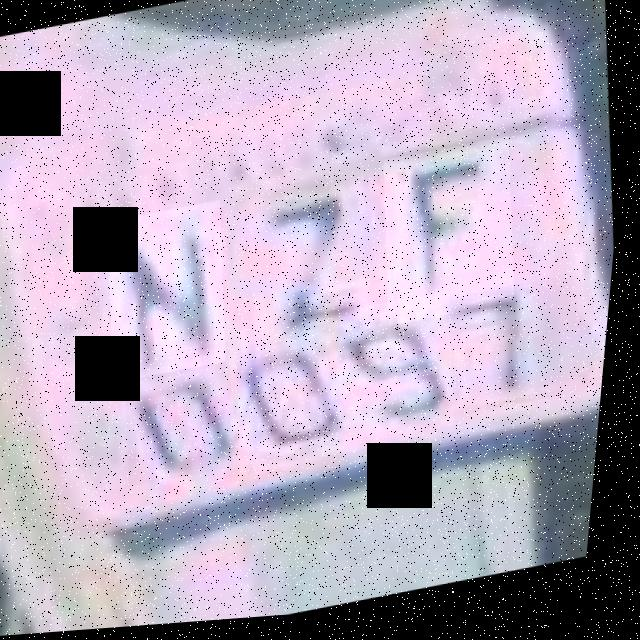0: (219, 327, 359, 473), (122, 343, 251, 490)
7: (415, 285, 579, 430)
9: (313, 296, 473, 464)
F: (375, 142, 532, 333)
N: (100, 202, 244, 387)
Z: (241, 176, 386, 349)
